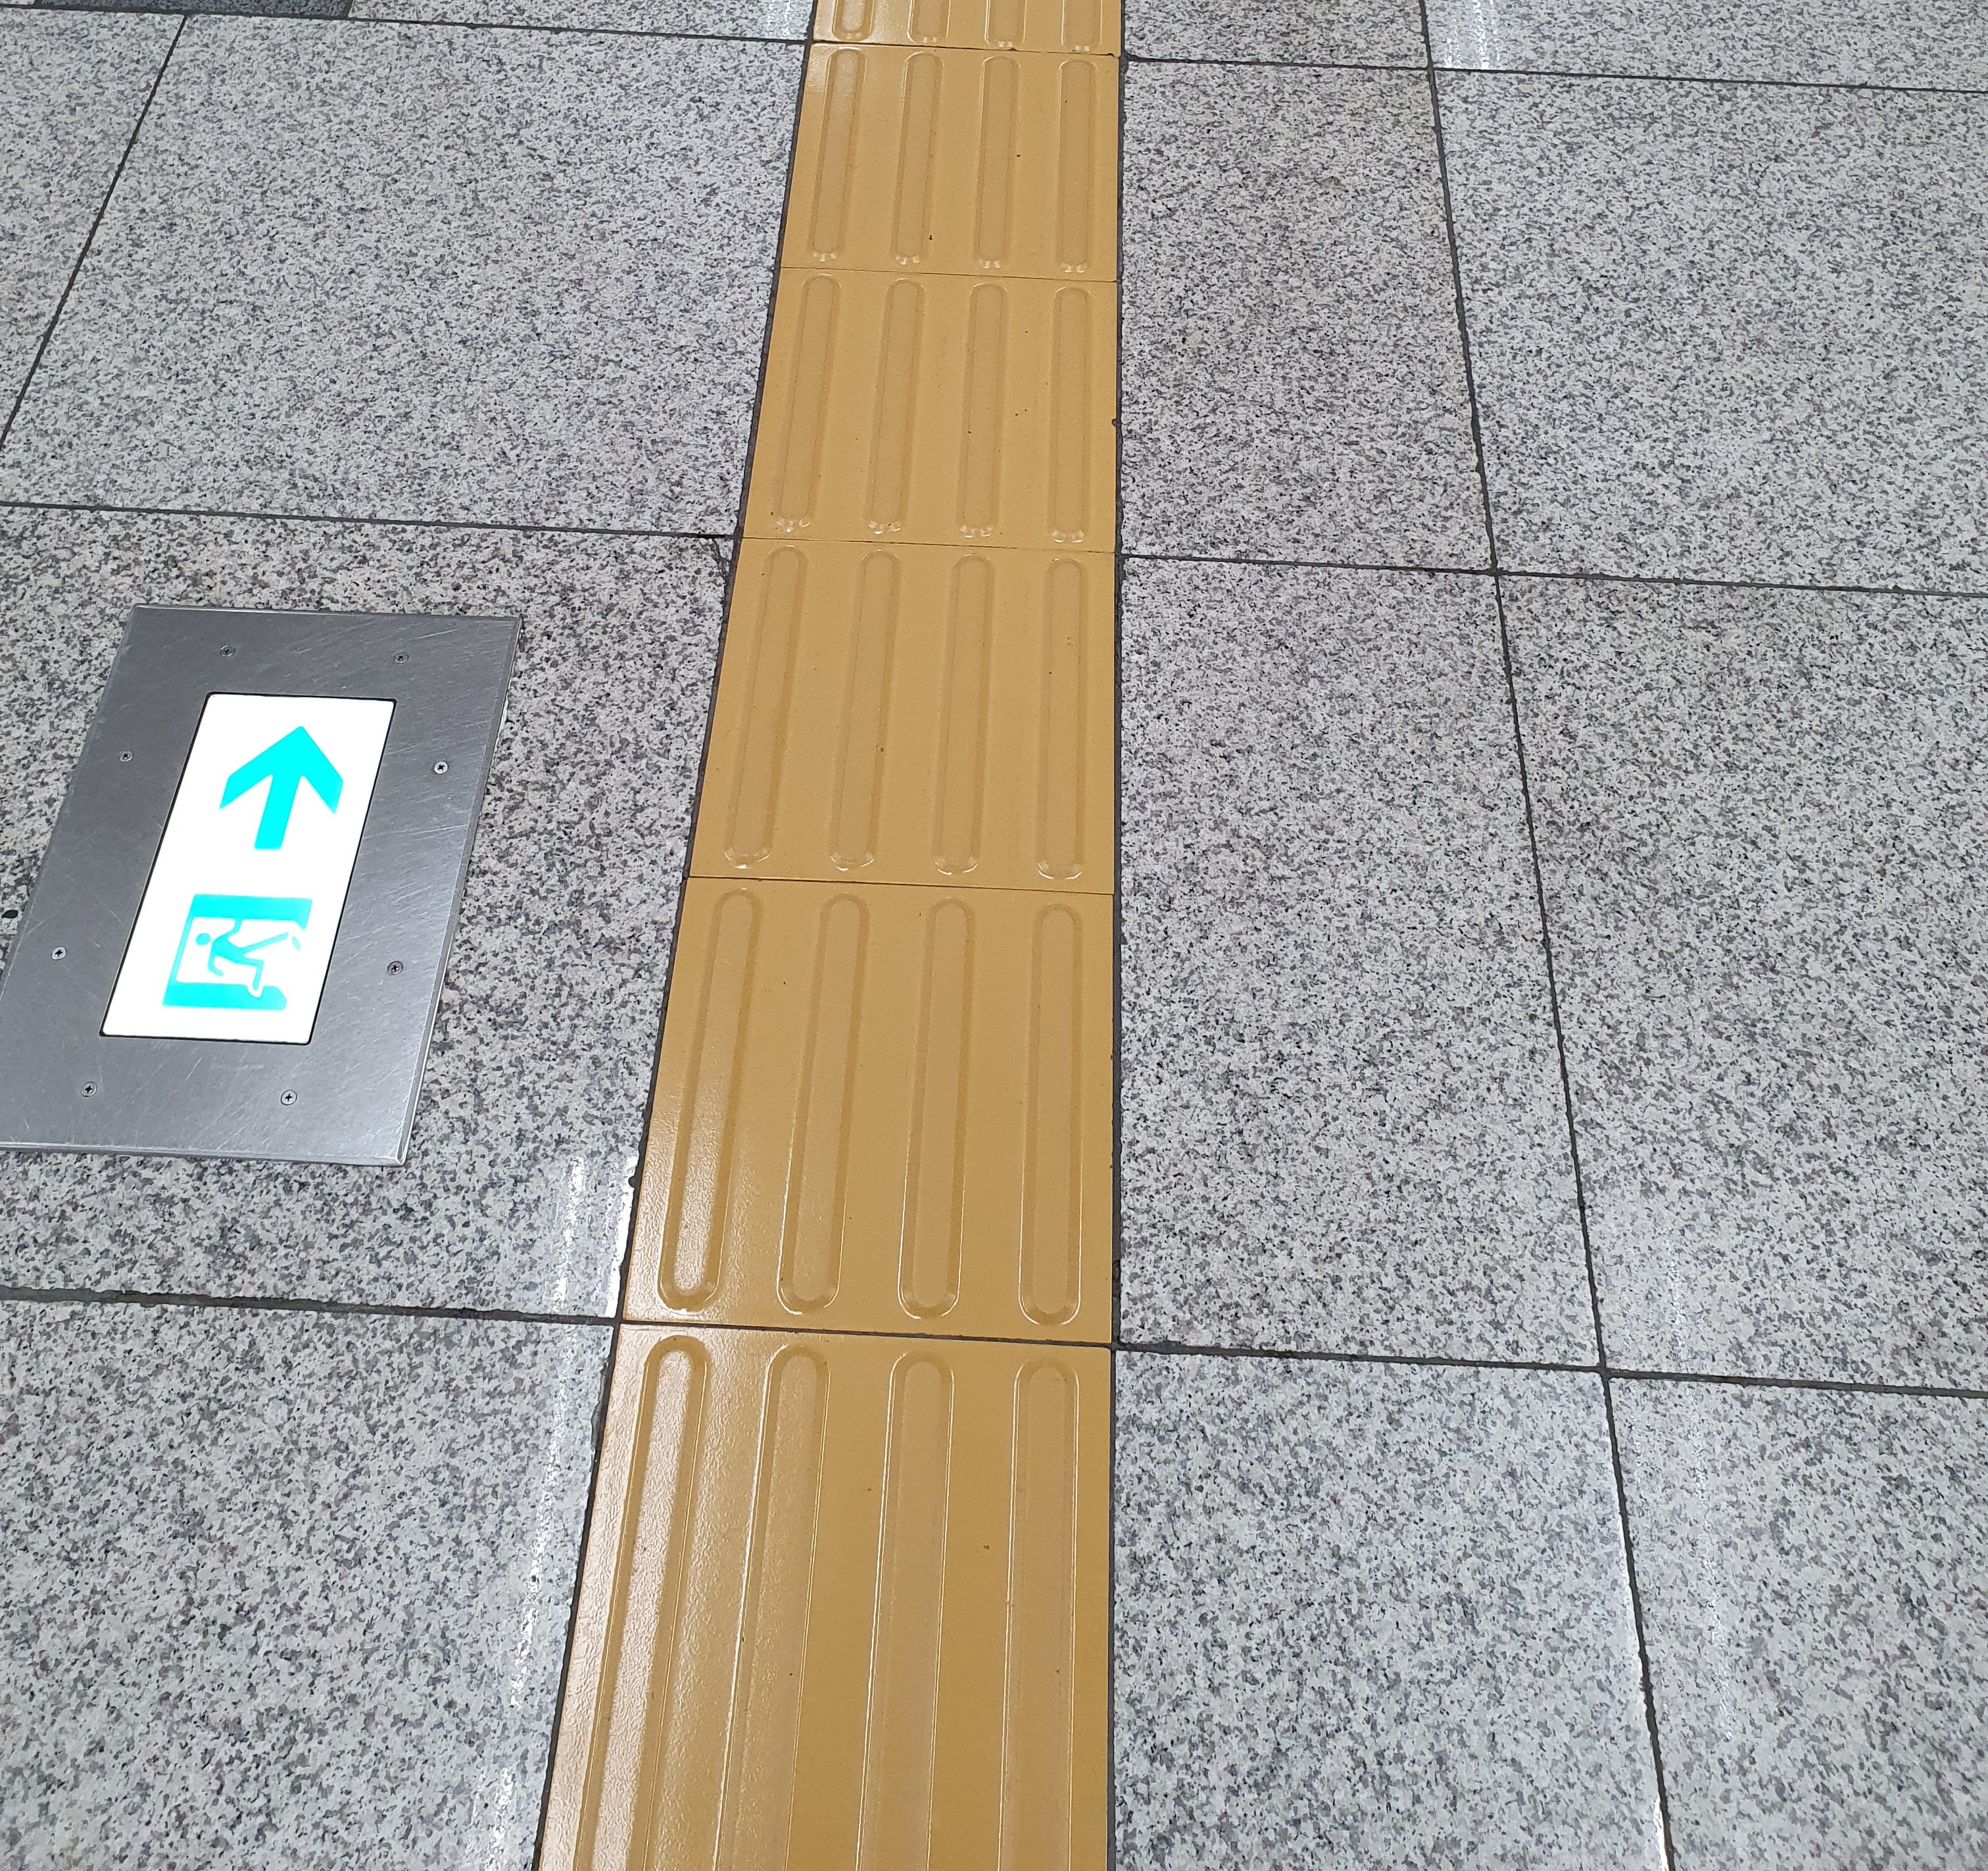guideBlock: (580, 1356, 1153, 1871), (671, 892, 1104, 1312), (742, 538, 1067, 983), (749, 253, 1118, 601), (802, 58, 1209, 308)
